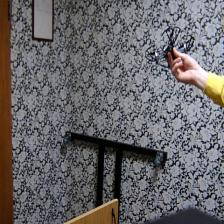drone: (143, 24, 196, 71)
